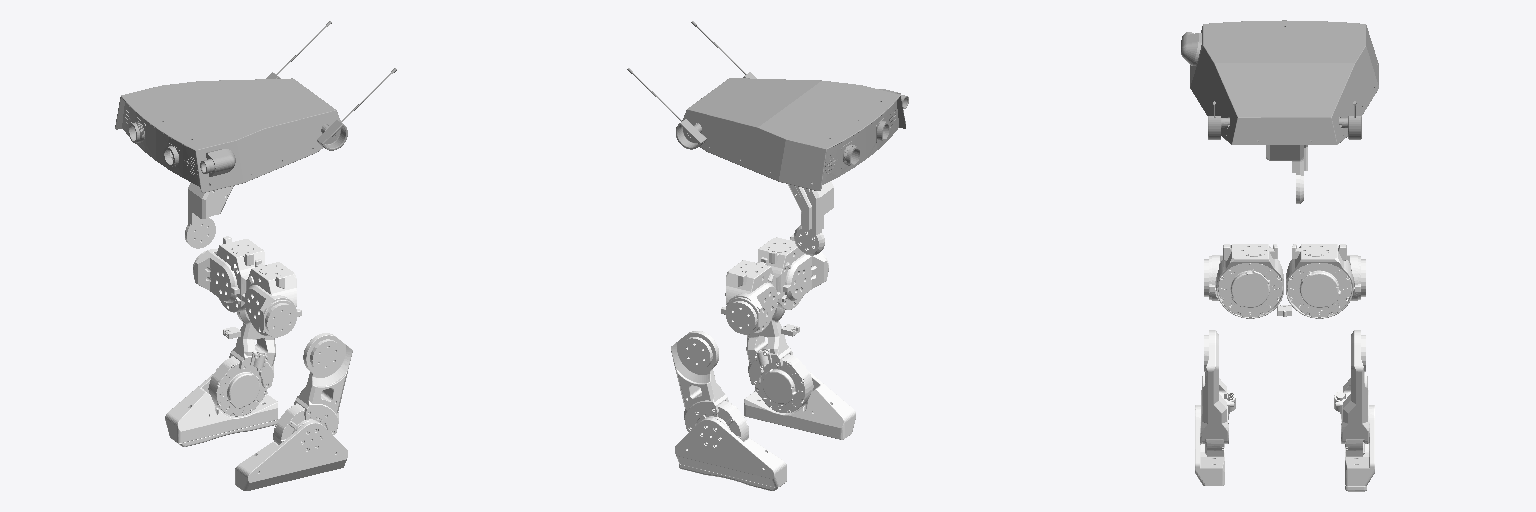
robot.urdf — ocean:
<?xml version="1.0" encoding="utf-8"?>
<!-- This URDF was automatically created by SolidWorks to URDF Exporter! Originally created by [author] ([email redacted]) 
     Commit Version: 1.6.0-4-g7f85cfe  Build Version: 1.6.7995.38578
     For more information, please see http://wiki.ros.org/sw_urdf_exporter -->
<robot
  name="ocean">
  <link
    name="base_link">
    <inertial>
      <origin
        xyz="0.033838 -0.0012004 -0.053283"
        rpy="0 0 0" />
      <mass
        value="4.2921" />
      <inertia
        ixx="0.013397"
        ixy="8.1389E-06"
        ixz="-0.0001569"
        iyy="0.010717"
        iyz="2.9147E-05"
        izz="0.00908" />
    </inertial>
    <visual>
      <origin
        xyz="0 0 0"
        rpy="0 0 0" />
      <geometry>
        <mesh
          filename="meshes/base_link.STL" />
      </geometry>
      <material
        name="">
        <color
          rgba="0.79216 0.81961 0.93333 1" />
      </material>
    </visual>
    <collision>
      <origin
        xyz="0 0 0"
        rpy="0 0 0" />
      <geometry>
        <mesh
          filename="meshes/base_link.STL" />
      </geometry>
    </collision>
  </link>
  <link
    name="leg_r1_link">
    <inertial>
      <origin
        xyz="-0.0041199 -0.0058777 0.050037"
        rpy="0 0 0" />
      <mass
        value="0.33146" />
      <inertia
        ixx="0.00049845"
        ixy="-4.5537E-08"
        ixz="2.2168E-05"
        iyy="0.00030507"
        iyz="2.0354E-06"
        izz="0.00025744" />
    </inertial>
    <visual>
      <origin
        xyz="0 0 0"
        rpy="0 0 0" />
      <geometry>
        <mesh
          filename="meshes/leg_r1_link.STL" />
      </geometry>
      <material
        name="">
        <color
          rgba="1 1 1 1" />
      </material>
    </visual>
    <collision>
      <origin
        xyz="0 0 0"
        rpy="0 0 0" />
      <geometry>
        <mesh
          filename="meshes/leg_r1_link.STL" />
      </geometry>
    </collision>
  </link>
  <joint
    name="leg_r1_joint"
    type="revolute">
    <origin
      xyz="0.020771 0.045349 -0.0423"
      rpy="-3.1416 0 0" />
    <parent
      link="base_link" />
    <child
      link="leg_r1_link" />
    <axis
      xyz="0 0 -1" />
    <limit
      lower="-0.436"
      upper="0.349"
      effort="30"
      velocity="6" />
  </joint>
  <link
    name="leg_r2_link">
    <inertial>
      <origin
        xyz="-0.03259 -8.6224E-05 0.0065541"
        rpy="0 0 0" />
      <mass
        value="0.15568" />
      <inertia
        ixx="6.954E-05"
        ixy="-1.8081E-07"
        ixz="-1.0241E-05"
        iyy="0.00016138"
        iyz="-1.4022E-07"
        izz="0.00018569" />
    </inertial>
    <visual>
      <origin
        xyz="0 0 0"
        rpy="0 0 0" />
      <geometry>
        <mesh
          filename="meshes/leg_r2_link.STL" />
      </geometry>
      <material
        name="">
        <color
          rgba="1 1 1 1" />
      </material>
    </visual>
    <collision>
      <origin
        xyz="0 0 0"
        rpy="0 0 0" />
      <geometry>
        <mesh
          filename="meshes/leg_r2_link.STL" />
      </geometry>
    </collision>
  </link>
  <joint
    name="leg_r2_joint"
    type="revolute">
    <origin
      xyz="-0.019601 -0.0054769 0.055609"
      rpy="-1.5708 0 1.5708" />
    <parent
      link="leg_r1_link" />
    <child
      link="leg_r2_link" />
    <axis
      xyz="0 0 -1" />
    <limit
      lower="-0.750"
      upper="0.262"
      effort="30"
      velocity="6" />
  </joint>
  <link
    name="leg_r3_link">
    <inertial>
      <origin
        xyz="-0.039555 -0.043339 -0.018416"
        rpy="0 0 0" />
      <mass
        value="0.73927" />
      <inertia
        ixx="0.0010276"
        ixy="-0.00040466"
        ixz="-9.9665E-06"
        iyy="0.0008075"
        iyz="-1.4606E-05"
        izz="0.0017539" />
    </inertial>
    <visual>
      <origin
        xyz="0 0 0"
        rpy="0 0 0" />
      <geometry>
        <mesh
          filename="meshes/leg_r3_link.STL" />
      </geometry>
      <material
        name="">
        <color
          rgba="1 1 1 1" />
      </material>
    </visual>
    <collision>
      <origin
        xyz="0 0 0"
        rpy="0 0 0" />
      <geometry>
        <mesh
          filename="meshes/leg_r3_link.STL" />
      </geometry>
    </collision>
  </link>
  <joint
    name="leg_r3_joint"
    type="revolute">
    <origin
      xyz="-0.0697599164232302 0 0.0033867789847717"
      rpy="1.5707963267949 0 1.5707963267949" />
    <parent
      link="leg_r2_link" />
    <child
      link="leg_r3_link" />
    <axis
      xyz="0 0 -1" />
    <limit
      lower="-1.361"
      upper="0.489"
      effort="30"
      velocity="6" />
  </joint>
  <link
    name="leg_r4_link">
    <inertial>
      <origin
        xyz="-0.085353 0.013534 0.014528"
        rpy="0 0 0" />
      <mass
        value="0.45582" />
      <inertia
        ixx="0.00023248"
        ixy="8.0216E-06"
        ixz="1.5757E-05"
        iyy="0.00060487"
        iyz="-8.9449E-07"
        izz="0.00078197" />
    </inertial>
    <visual>
      <origin
        xyz="0 0 0"
        rpy="0 0 0" />
      <geometry>
        <mesh
          filename="meshes/leg_r4_link.STL" />
      </geometry>
      <material
        name="">
        <color
          rgba="1 1 1 1" />
      </material>
    </visual>
    <collision>
      <origin
        xyz="0 0 0"
        rpy="0 0 0" />
      <geometry>
        <mesh
          filename="meshes/leg_r4_link.STL" />
      </geometry>
    </collision>
  </link>
  <joint
    name="leg_r4_joint"
    type="revolute">
    <origin
      xyz="-0.0848592981439465 -0.0848505720845361 0"
      rpy="0 0 0" />
    <parent
      link="leg_r3_link" />
    <child
      link="leg_r4_link" />
    <axis
      xyz="0 0 -1" />
    <limit
      lower="-0.803"
      upper="1.344"
      effort="30"
      velocity="6" />
  </joint>
  <link
    name="leg_r5_link">
    <inertial>
      <origin
        xyz="0.033054 -0.046256 -0.011541"
        rpy="0 0 0" />
      <mass
        value="0.45151" />
      <inertia
        ixx="0.00024156"
        ixy="-1.2357E-05"
        ixz="2.5375E-05"
        iyy="0.0013142"
        iyz="-5.2075E-05"
        izz="0.0014125" />
    </inertial>
    <visual>
      <origin
        xyz="0 0 0"
        rpy="0 0 0" />
      <geometry>
        <mesh
          filename="meshes/leg_r5_link.STL" />
      </geometry>
      <material
        name="">
        <color
          rgba="1 1 1 1" />
      </material>
    </visual>
    <collision>
      <origin
        xyz="0 0 0"
        rpy="0 0 0" />
      <geometry>
        <mesh
          filename="meshes/leg_r5_link.STL" />
      </geometry>
    </collision>
  </link>
  <joint
    name="leg_r5_joint"
    type="revolute">
    <origin
      xyz="-0.13521227428467 0.0362544405667555 -0.00435000000000058"
      rpy="3.14159265358979 0 1.5707963267949" />
    <parent
      link="leg_r4_link" />
    <child
      link="leg_r5_link" />
    <axis
      xyz="0 0 -1" />
    <limit
      lower="-1.396"
      upper="1.134"
      effort="30"
      velocity="6" />
  </joint>
  <link
    name="leg_l1_link">
    <inertial>
      <origin
        xyz="-0.0041201 0.0059563 0.050091"
        rpy="0 0 0" />
      <mass
        value="0.33145" />
      <inertia
        ixx="0.00049843"
        ixy="8.2046E-08"
        ixz="2.2204E-05"
        iyy="0.00030579"
        iyz="-2.0461E-06"
        izz="0.0002567" />
    </inertial>
    <visual>
      <origin
        xyz="0 0 0"
        rpy="0 0 0" />
      <geometry>
        <mesh
          filename="meshes/leg_l1_link.STL" />
      </geometry>
      <material
        name="">
        <color
          rgba="1 1 1 1" />
      </material>
    </visual>
    <collision>
      <origin
        xyz="0 0 0"
        rpy="0 0 0" />
      <geometry>
        <mesh
          filename="meshes/leg_l1_link.STL" />
      </geometry>
    </collision>
  </link>
  <joint
    name="leg_l1_joint"
    type="revolute">
    <origin
      xyz="0.0207708926338017 -0.0471505964321851 -0.0422999999999991"
      rpy="-3.14159265358979 0 0" />
    <parent
      link="base_link" />
    <child
      link="leg_l1_link" />
    <axis
      xyz="0 0 -1" />
    <limit
      lower="-0.349"
      upper="0.436"
      effort="30"
      velocity="6" />
  </joint>
  <link
    name="leg_l2_link">
    <inertial>
      <origin
        xyz="-0.032589 8.2716E-05 0.0065541"
        rpy="0 0 0" />
      <mass
        value="0.12555" />
      <inertia
        ixx="5.608E-05"
        ixy="1.4018E-07"
        ixz="-8.2598E-06"
        iyy="0.00013015"
        iyz="1.1035E-07"
        izz="0.00014975" />
    </inertial>
    <visual>
      <origin
        xyz="0 0 0"
        rpy="0 0 0" />
      <geometry>
        <mesh
          filename="meshes/leg_l2_link.STL" />
      </geometry>
      <material
        name="">
        <color
          rgba="1 1 1 1" />
      </material>
    </visual>
    <collision>
      <origin
        xyz="0 0 0"
        rpy="0 0 0" />
      <geometry>
        <mesh
          filename="meshes/leg_l2_link.STL" />
      </geometry>
    </collision>
  </link>
  <joint
    name="leg_l2_joint"
    type="revolute">
    <origin
      xyz="-0.01960079285411 0.00550443611557444 0.0556099164232253"
      rpy="1.5707963267949 7.30362053830224E-05 -1.5707963267949" />
    <parent
      link="leg_l1_link" />
    <child
      link="leg_l2_link" />
    <axis
      xyz="0 0 -1" />
    <limit
      lower="-0.262"
      upper="0.750"
      effort="30"
      velocity="6" />
  </joint>
  <link
    name="leg_l3_link">
    <inertial>
      <origin
        xyz="-0.039591 0.043396 -0.018481"
        rpy="0 0 0" />
      <mass
        value="0.73927" />
      <inertia
        ixx="0.0010267"
        ixy="0.00040554"
        ixz="-9.9149E-06"
        iyy="0.00080838"
        iyz="1.4572E-05"
        izz="0.0017538" />
    </inertial>
    <visual>
      <origin
        xyz="0 0 0"
        rpy="0 0 0" />
      <geometry>
        <mesh
          filename="meshes/leg_l3_link.STL" />
      </geometry>
      <material
        name="">
        <color
          rgba="1 1 1 1" />
      </material>
    </visual>
    <collision>
      <origin
        xyz="0 0 0"
        rpy="0 0 0" />
      <geometry>
        <mesh
          filename="meshes/leg_l3_link.STL" />
      </geometry>
    </collision>
  </link>
  <joint
    name="leg_l3_joint"
    type="revolute">
    <origin
      xyz="-0.0697587935046286 -1.75243179483114E-05 0.0034130140446374"
      rpy="-1.57079632679498 0 -1.57072329058951" />
    <parent
      link="leg_l2_link" />
    <child
      link="leg_l3_link" />
    <axis
      xyz="0 0 -1" />
    <limit
      lower="-0.489"
      upper="1.361"
      effort="30"
      velocity="6" />
  </joint>
  <link
    name="leg_l4_link">
    <inertial>
      <origin
        xyz="0.013624 -0.085298 0.014354"
        rpy="0 0 0" />
      <mass
        value="0.4525" />
      <inertia
        ixx="0.00060395"
        ixy="7.9873E-06"
        ixz="-8.5109E-07"
        iyy="0.00023313"
        iyz="1.58E-05"
        izz="0.00078176" />
    </inertial>
    <visual>
      <origin
        xyz="0 0 0"
        rpy="0 0 0" />
      <geometry>
        <mesh
          filename="meshes/leg_l4_link.STL" />
      </geometry>
      <material
        name="">
        <color
          rgba="1 1 1 1" />
      </material>
    </visual>
    <collision>
      <origin
        xyz="0 0 0"
        rpy="0 0 0" />
      <geometry>
        <mesh
          filename="meshes/leg_l4_link.STL" />
      </geometry>
    </collision>
  </link>
  <joint
    name="leg_l4_joint"
    type="revolute">
    <origin
      xyz="-0.0848640099907751 0.0848758418377773 0"
      rpy="0 0 -1.5707963267949" />
    <parent
      link="leg_l3_link" />
    <child
      link="leg_l4_link" />
    <axis
      xyz="0 0 -1" />
    <limit
      lower="-1.344"
      upper="0.803"
      effort="30"
      velocity="6" />
  </joint>
  <link
    name="leg_l5_link">
    <inertial>
      <origin
        xyz="-0.034306 -0.042595 -0.010554"
        rpy="0 0 0" />
      <mass
        value="0.39976" />
      <inertia
        ixx="0.00023673"
        ixy="1.2067E-05"
        ixz="-2.5385E-05"
        iyy="0.0011524"
        iyz="-5.209E-05"
        izz="0.001255" />
    </inertial>
    <visual>
      <origin
        xyz="0 0 0"
        rpy="0 0 0" />
      <geometry>
        <mesh
          filename="meshes/leg_l5_link.STL" />
      </geometry>
      <material
        name="">
        <color
          rgba="1 1 1 1" />
      </material>
    </visual>
    <collision>
      <origin
        xyz="0 0 0"
        rpy="0 0 0" />
      <geometry>
        <mesh
          filename="meshes/leg_l5_link.STL" />
      </geometry>
    </collision>
  </link>
  <joint
    name="leg_l5_joint"
    type="revolute">
    <origin
      xyz="0.036235 -0.13523 -0.00435"
      rpy="3.1416 0 3.1416" />
    <parent
      link="leg_l4_link" />
    <child
      link="leg_l5_link" />
    <axis
      xyz="0 0 -1" />
    <limit
      lower="-1.134"
      upper="1.396"
      effort="30"
      velocity="6" />
  </joint>
  <link
    name="neck_n1_link">
    <inertial>
      <origin
        xyz="0.0056163 -0.068891 -0.01248"
        rpy="0 0 0" />
      <mass
        value="0.24777" />
      <inertia
        ixx="0.00028574"
        ixy="2.0669E-05"
        ixz="3.0466E-06"
        iyy="0.00011057"
        iyz="-4.8832E-05"
        izz="0.00027429" />
    </inertial>
    <visual>
      <origin
        xyz="0 0 0"
        rpy="0 0 0" />
      <geometry>
        <mesh
          filename="meshes/neck_n1_link.STL" />
      </geometry>
      <material
        name="">
        <color
          rgba="1 1 1 1" />
      </material>
    </visual>
    <collision>
      <origin
        xyz="0 0 0"
        rpy="0 0 0" />
      <geometry>
        <mesh
          filename="meshes/neck_n1_link.STL" />
      </geometry>
    </collision>
  </link>
  <joint
    name="neck_n1_joint"
    type="revolute">
    <origin
      xyz="-0.0742166695062486 0.0150861728537563 0.0205492071458914"
      rpy="-1.5707963267949 0 0" />
    <parent
      link="base_link" />
    <child
      link="neck_n1_link" />
    <axis
      xyz="0 0 -1" />
    <limit
      lower="-1.065"
      upper="0.436"
      effort="30"
      velocity="6" />
  </joint>
  <link
    name="neck_n2_link">
    <inertial>
      <origin
        xyz="0.042035 0.0075777 -0.027871"
        rpy="0 0 0" />
      <mass
        value="0.10044" />
      <inertia
        ixx="4.8276E-05"
        ixy="-1.6348E-05"
        ixz="2.0417E-06"
        iyy="9.9239E-05"
        iyz="4.2677E-07"
        izz="9.0874E-05" />
    </inertial>
    <visual>
      <origin
        xyz="0 0 0"
        rpy="0 0 0" />
      <geometry>
        <mesh
          filename="meshes/neck_n2_link.STL" />
      </geometry>
      <material
        name="">
        <color
          rgba="1 1 1 1" />
      </material>
    </visual>
    <collision>
      <origin
        xyz="0 0 0"
        rpy="0 0 0" />
      <geometry>
        <mesh
          filename="meshes/neck_n2_link.STL" />
      </geometry>
    </collision>
  </link>
  <joint
    name="neck_n2_joint"
    type="revolute">
    <origin
      xyz="0.030476 -0.1167 -0.0447"
      rpy="3.1416 0 -1.0472" />
    <parent
      link="neck_n1_link" />
    <child
      link="neck_n2_link" />
    <axis
      xyz="0 0 -1" />
    <limit
      lower="-0.698"
      upper="1.326"
      effort="30"
      velocity="6" />
  </joint>
  <link
    name="neck_n3_link">
    <inertial>
      <origin
        xyz="-0.016589 -2.7487E-06 -0.020892"
        rpy="0 0 0" />
      <mass
        value="0.1462" />
      <inertia
        ixx="9.3798E-05"
        ixy="1.3534E-08"
        ixz="-7.699E-08"
        iyy="9.1184E-05"
        iyz="-2.1794E-10"
        izz="0.00016521" />
    </inertial>
    <visual>
      <origin
        xyz="0 0 0"
        rpy="0 0 0" />
      <geometry>
        <mesh
          filename="meshes/neck_n3_link.STL" />
      </geometry>
      <material
        name="">
        <color
          rgba="0.75294 0.75294 0.75294 1" />
      </material>
    </visual>
    <collision>
      <origin
        xyz="0 0 0"
        rpy="0 0 0" />
      <geometry>
        <mesh
          filename="meshes/neck_n3_link.STL" />
      </geometry>
    </collision>
  </link>
  <joint
    name="neck_n3_joint"
    type="revolute">
    <origin
      xyz="0.0304840942132121 0.0176000000000001 -0.0283000000000009"
      rpy="1.5707963267949 0 -1.0471975511966" />
    <parent
      link="neck_n2_link" />
    <child
      link="neck_n3_link" />
    <axis
      xyz="0 0 -1" />
    <limit
      lower="-1.571"
      upper="1.571"
      effort="30"
      velocity="6" />
  </joint>
  <link
    name="neck_n4_link">
    <inertial>
      <origin
        xyz="0.00090398 0.010912 -0.10923"
        rpy="0 0 0" />
      <mass
        value="1.0461" />
      <inertia
        ixx="0.0046317"
        ixy="-2.0087E-06"
        ixz="2.4263E-05"
        iyy="0.009285"
        iyz="-0.0001835"
        izz="0.0050467" />
    </inertial>
    <visual>
      <origin
        xyz="0 0 0"
        rpy="0 0 0" />
      <geometry>
        <mesh
          filename="meshes/neck_n4_link.STL" />
      </geometry>
      <material
        name="">
        <color
          rgba="0.75294 0.75294 0.75294 1" />
      </material>
    </visual>
    <collision>
      <origin
        xyz="0 0 0"
        rpy="0 0 0" />
      <geometry>
        <mesh
          filename="meshes/neck_n4_link.STL" />
      </geometry>
    </collision>
  </link>
  <joint
    name="neck_n4_joint"
    type="revolute">
    <origin
      xyz="-0.111550000000001 0 -0.0157999999999999"
      rpy="-1.5707963267949 0 1.57079632679489" />
    <parent
      link="neck_n3_link" />
    <child
      link="neck_n4_link" />
    <axis
      xyz="0 0 -1" />
    <limit
      lower="-0.785"
      upper="0.785"
      effort="30"
      velocity="6" />
  </joint>
  <link
    name="imu_link">
    <inertial>
      <origin
        xyz="0 0 0"
        rpy="0 0 0" />
      <mass
        value="0" />
      <inertia
        ixx="0"
        ixy="0"
        ixz="0"
        iyy="0"
        iyz="0"
        izz="0" />
    </inertial>
    <visual>
      <origin
        xyz="0 0 0"
        rpy="0 0 0" />
      <geometry>
        <mesh
          filename="meshes/imu_link.STL" />
      </geometry>
      <material
        name="">
        <color
          rgba="1 1 1 1" />
      </material>
    </visual>
    <collision>
      <origin
        xyz="0 0 0"
        rpy="0 0 0" />
      <geometry>
        <mesh
          filename="meshes/imu_link.STL" />
      </geometry>
    </collision>
  </link>
  <joint
    name="imu_joint"
    type="fixed">
    <origin
      xyz="-0.0247152340596654 -0.000913827699595732 -0.1587"
      rpy="0 0 0" />
    <parent
      link="base_link" />
    <child
      link="imu_link" />
    <axis
      xyz="0 0 0" />
    <limit
      lower="-3.14"
      upper="3.14"
      effort="1"
      velocity="1" />
  </joint>
</robot>

--- Facts derived from the render (not from the file) ---
The picture shows the robot from 3 angles, left to right: view 1: azimuth 30°, elevation 25°; view 2: azimuth 150°, elevation 25°; view 3: azimuth 270°, elevation 25°; orthographic projection.
Robot: ocean — 16 links, 15 joints (14 revolute, 1 fixed); root link base_link; default pose: all joints at 0.
Visible links, largest first — view 1: neck_n4_link, leg_l5_link, leg_l4_link, leg_r4_link, leg_r5_link, leg_l2_link, neck_n1_link, leg_r1_link, leg_r2_link, leg_l1_link; view 2: neck_n4_link, leg_r5_link, leg_r4_link, leg_l4_link, leg_l5_link, neck_n1_link, leg_r2_link, leg_l1_link, leg_l2_link, leg_r1_link; view 3: neck_n4_link, leg_r1_link, leg_l1_link, leg_r4_link, leg_l4_link, leg_r5_link, leg_l5_link, neck_n1_link, leg_r2_link, leg_l2_link.
Link boxes in pixels (x1,y1,x2,y2): neck_n4_link: [115, 21, 396, 192]; leg_l5_link: [235, 421, 347, 490]; leg_l4_link: [273, 333, 352, 444]; leg_r4_link: [208, 310, 275, 416]; leg_r5_link: [165, 374, 278, 446]; leg_l2_link: [241, 285, 301, 337]; neck_n1_link: [185, 183, 233, 248]; leg_r1_link: [216, 236, 264, 312]; leg_r2_link: [193, 249, 239, 302]; leg_l1_link: [244, 259, 296, 335]; neck_n4_link: [627, 21, 908, 190]; leg_r5_link: [675, 418, 786, 490]; leg_r4_link: [671, 331, 748, 441]; leg_l4_link: [746, 308, 813, 412]; leg_l5_link: [744, 372, 855, 439]; neck_n1_link: [788, 181, 833, 255]; leg_r2_link: [721, 282, 780, 334]; leg_l1_link: [757, 234, 803, 309]; leg_l2_link: [783, 252, 828, 300]; leg_r1_link: [725, 257, 777, 332]; neck_n4_link: [1181, 20, 1378, 144]; leg_r1_link: [1286, 244, 1353, 318]; leg_l1_link: [1216, 244, 1283, 318]; leg_r4_link: [1334, 330, 1368, 456]; leg_l4_link: [1201, 330, 1235, 456]; leg_r5_link: [1345, 405, 1374, 491]; leg_l5_link: [1195, 405, 1224, 485]; neck_n1_link: [1266, 145, 1307, 203]; leg_r2_link: [1347, 255, 1365, 300]; leg_l2_link: [1204, 255, 1222, 300].
Bounding box of the posed robot: 0.4047 × 0.2977 × 0.6955 m (x, y, z).
13 mesh visuals loaded from 16 distinct referenced files (13 binary STL); not drawn: 3 (reference not matched to a file when rendering).
